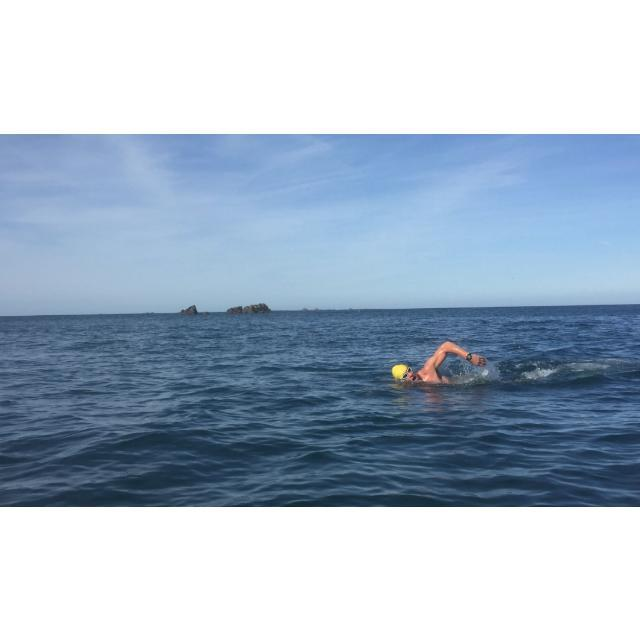human: (388, 338, 497, 391)
